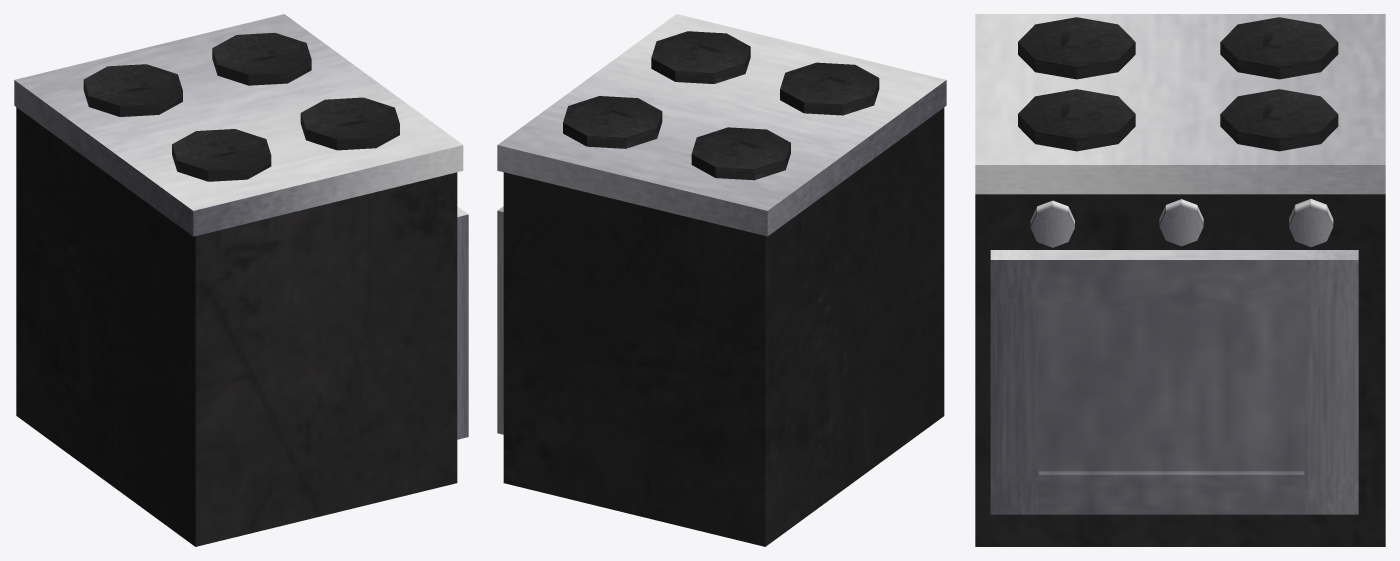
Rendered from StoveOven.fbx.
3 renders of one model, left to right at view 1: azimuth 30°, elevation 25°; view 2: azimuth 150°, elevation 25°; view 3: azimuth 270°, elevation 25°, orthographic. The views are drawn at different scales.
Visible parts, largest first — view 1: Cube.014, Cube.015, Cylinder.010, Cylinder.009, Cylinder.011, Cylinder.012, Cube.018; view 2: Cube.014, Cube.015, Cylinder.012, Cylinder.011, Cylinder.009, Cylinder.010, Cube.018; view 3: Cube.018, Cube.015, Cube.014, Cylinder.010, Cylinder.012, Cylinder.011, Cylinder.009, Cylinder.008, Cylinder.007, Cylinder.006.
Part boxes in pixels (<box>): Cube.014: <box>16,107,457,546</box>; Cube.015: <box>14,14,463,236</box>; Cylinder.010: <box>212,32,311,85</box>; Cylinder.009: <box>300,97,399,150</box>; Cylinder.011: <box>172,129,271,181</box>; Cylinder.012: <box>83,64,182,116</box>; Cube.018: <box>457,206,468,439</box>; Cube.014: <box>503,107,944,546</box>; Cube.015: <box>497,14,946,236</box>; Cylinder.012: <box>691,127,790,180</box>; Cylinder.011: <box>780,62,879,115</box>; Cylinder.009: <box>651,31,750,83</box>; Cylinder.010: <box>563,96,662,148</box>; Cube.018: <box>497,206,503,434</box>; Cube.018: <box>990,250,1358,514</box>; Cube.015: <box>975,14,1385,194</box>; Cube.014: <box>975,194,1385,546</box>; Cylinder.010: <box>1220,89,1338,151</box>; Cylinder.012: <box>1220,17,1338,79</box>; Cylinder.011: <box>1018,17,1135,79</box>; Cylinder.009: <box>1018,89,1135,151</box>; Cylinder.008: <box>1289,199,1333,247</box>; Cylinder.007: <box>1159,199,1203,246</box>; Cylinder.006: <box>1030,200,1074,247</box>.
Size of the model in its own units: 77.57 by 85.32 by 91.36.
